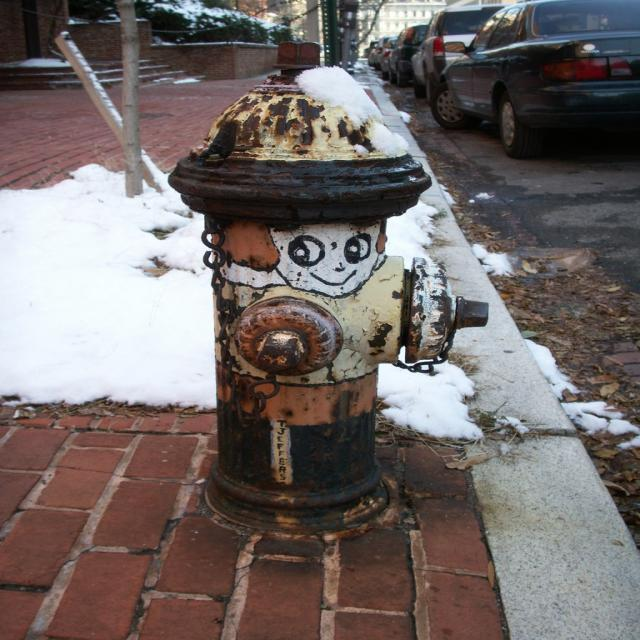fire_hydrant: (163, 74, 490, 536)
